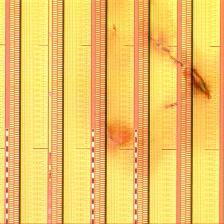PARTICLE: (96, 28, 219, 157)
